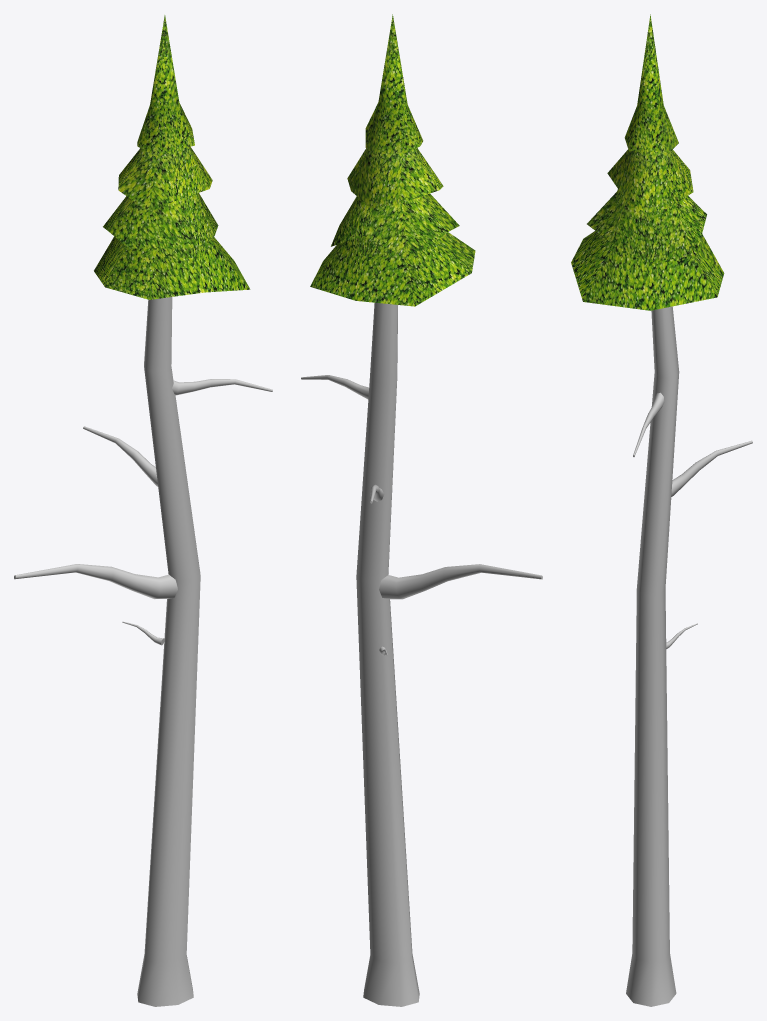
The model's file is ArbolDos.fbx.
3 views of the same model, side by side, from view 1: azimuth 30°, elevation 25°; view 2: azimuth 150°, elevation 25°; view 3: azimuth 270°, elevation 25° (orthographic).
Parts seen in each view (by area): view 1: Object047; view 2: Object047; view 3: Object047.
Part boxes in pixels (x1=…): Object047: x1=14, y1=15, x2=272, y2=1006; Object047: x1=301, y1=14, x2=542, y2=1006; Object047: x1=571, y1=14, x2=752, y2=1006.
Size of the model in its own units: 0.6417 by 2.41 by 0.4058.
